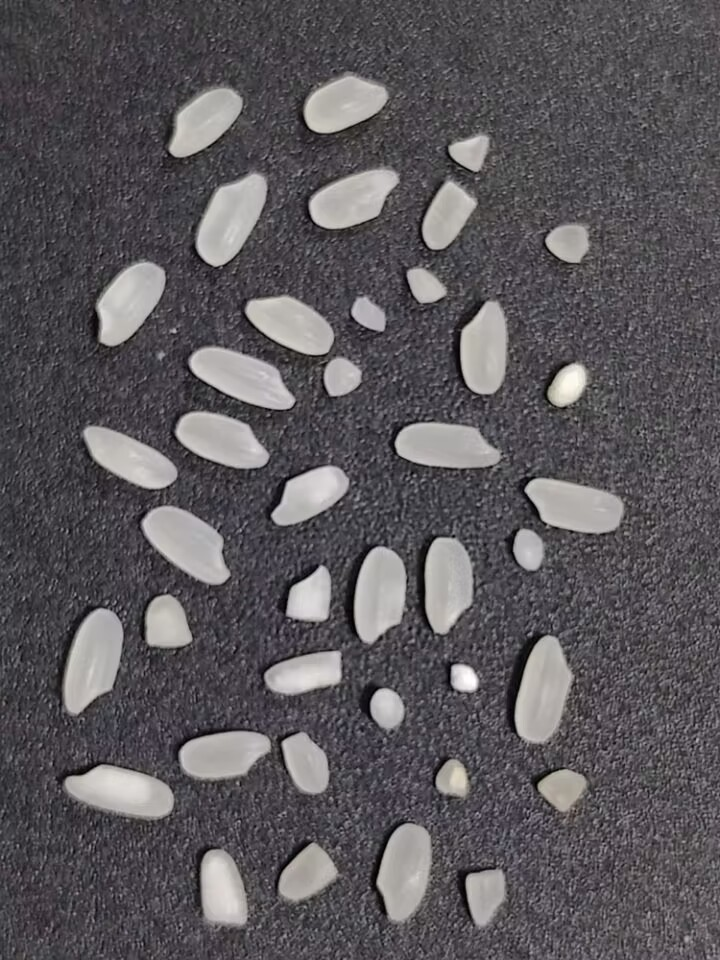broken: (192, 844, 251, 926), (262, 647, 347, 699), (419, 180, 477, 252), (277, 840, 339, 902), (280, 729, 331, 796), (280, 563, 334, 625), (143, 594, 193, 653), (464, 867, 510, 931), (536, 767, 590, 814), (544, 358, 589, 409), (447, 131, 495, 175), (544, 222, 592, 266), (429, 753, 472, 801), (321, 355, 364, 399), (403, 264, 448, 306), (509, 526, 548, 573), (348, 295, 392, 335), (367, 686, 406, 731), (447, 660, 481, 697)
rice: (137, 502, 235, 589), (182, 342, 297, 413), (195, 170, 270, 268), (512, 631, 577, 744), (80, 423, 181, 495), (61, 760, 177, 820), (61, 606, 123, 718), (94, 258, 167, 349), (171, 406, 273, 470), (373, 821, 435, 926), (350, 543, 411, 649), (306, 164, 401, 232), (166, 83, 245, 161), (524, 475, 626, 534), (242, 294, 337, 356), (269, 460, 353, 529), (392, 420, 505, 470), (302, 74, 389, 135), (457, 298, 510, 396), (178, 728, 273, 782), (424, 537, 474, 634)
